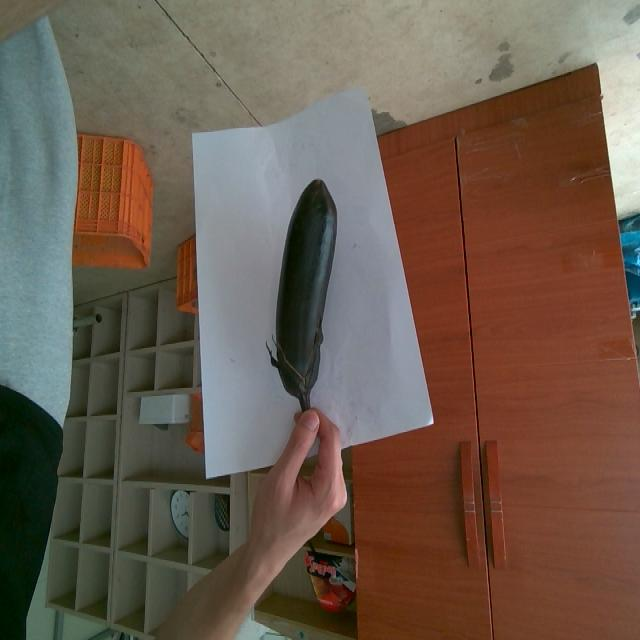Egg plant: (267, 181, 337, 412)
